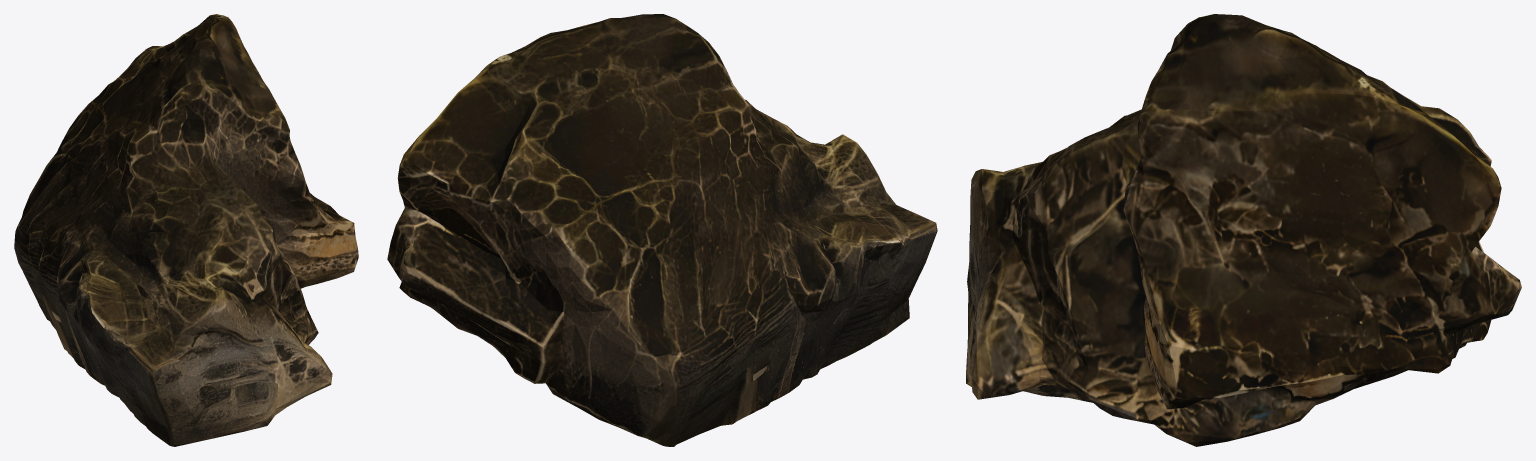
Rendered from biotite_001.glb.
The picture shows the model from 3 angles, left to right: view 1: azimuth 30°, elevation 25°; view 2: azimuth 150°, elevation 25°; view 3: azimuth 270°, elevation 25°; orthographic projection. The views are drawn at different scales.
Visible parts, largest first — view 1: tripo_node_165f9dc2-64ab-4681-b5ab-d7521b9ae86e; view 2: tripo_node_165f9dc2-64ab-4681-b5ab-d7521b9ae86e; view 3: tripo_node_165f9dc2-64ab-4681-b5ab-d7521b9ae86e.
Boxes of the visible parts, box(x1,y1,x2,y2) form: tripo_node_165f9dc2-64ab-4681-b5ab-d7521b9ae86e: box(14, 14, 358, 446); tripo_node_165f9dc2-64ab-4681-b5ab-d7521b9ae86e: box(387, 14, 937, 446); tripo_node_165f9dc2-64ab-4681-b5ab-d7521b9ae86e: box(966, 14, 1521, 446).
Bounding box in the file's own units: 0.7704 × 0.7412 × 0.9475.
1 material, 1 textured.
